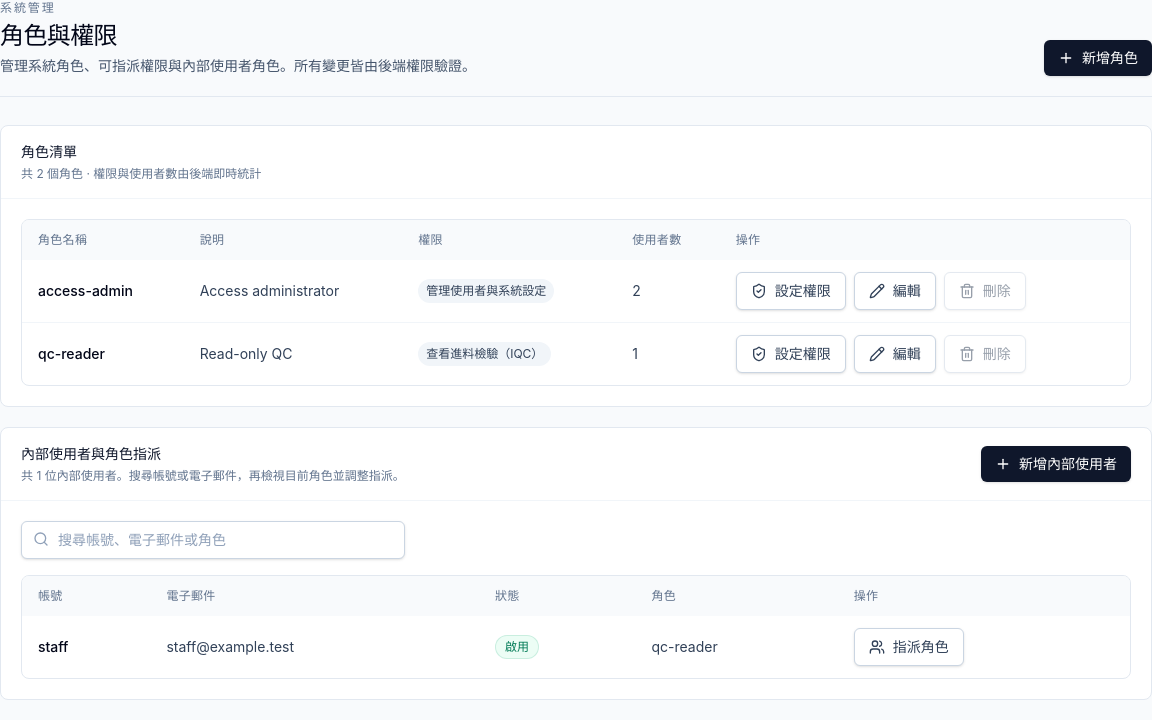
roles and permissions admin page › assigns roles to an internal user
Expected: the text "access-admin" is shown, [22, 260, 184, 322]
Click the button with aria-label "指派角色 staff" at (909, 647), box [854, 628, 964, 666]
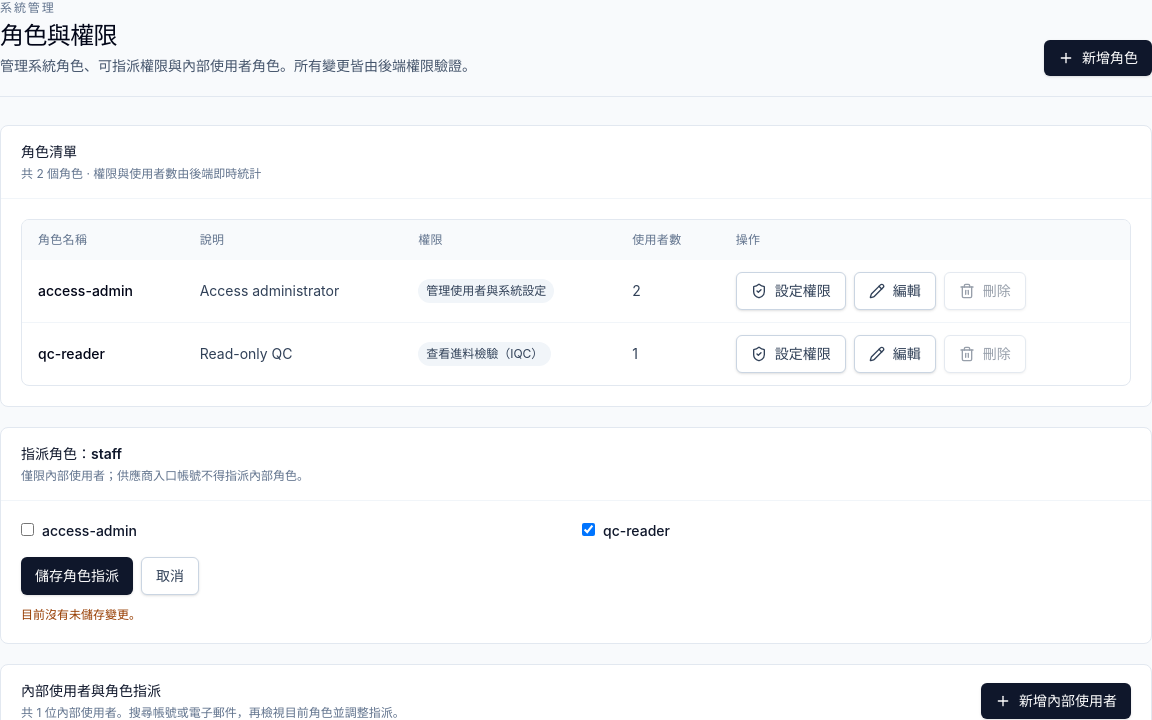
Click the checkbox named "角色 access-admin" at (28, 530), box [21, 523, 34, 536]
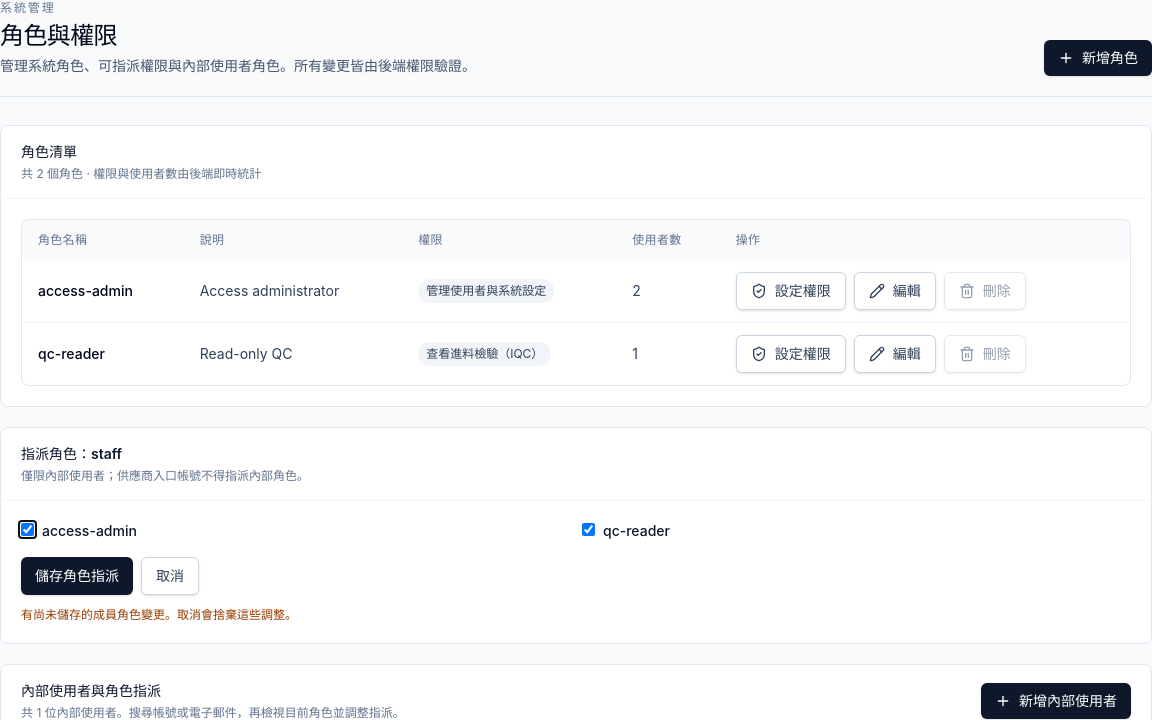
Click the button "儲存角色指派" at (77, 576), box [21, 557, 133, 595]
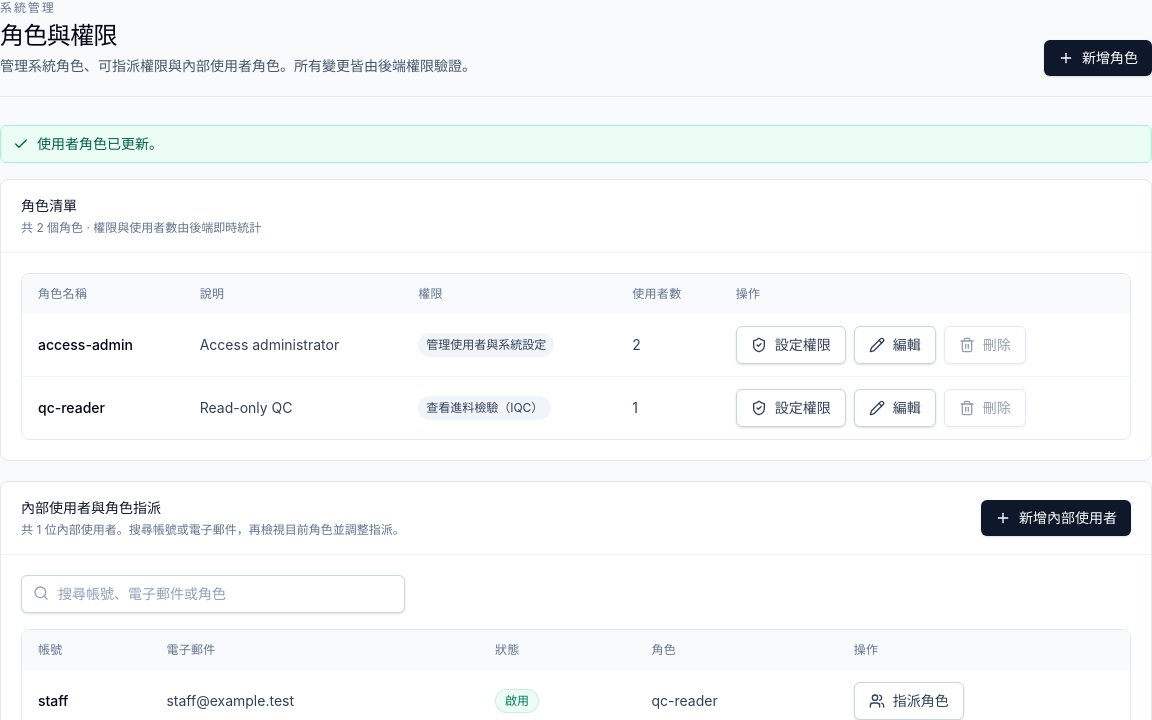
Now the text "使用者角色已更新。" is shown, box [0, 125, 1151, 163]
